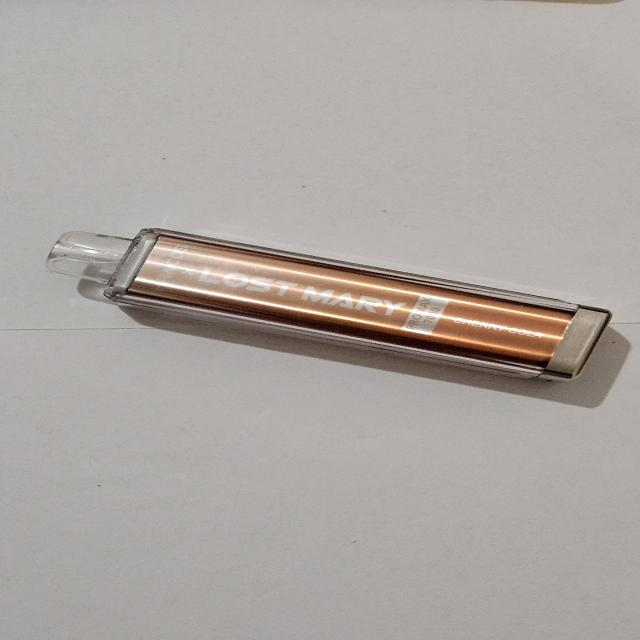Hazard: (44, 226, 613, 384)
